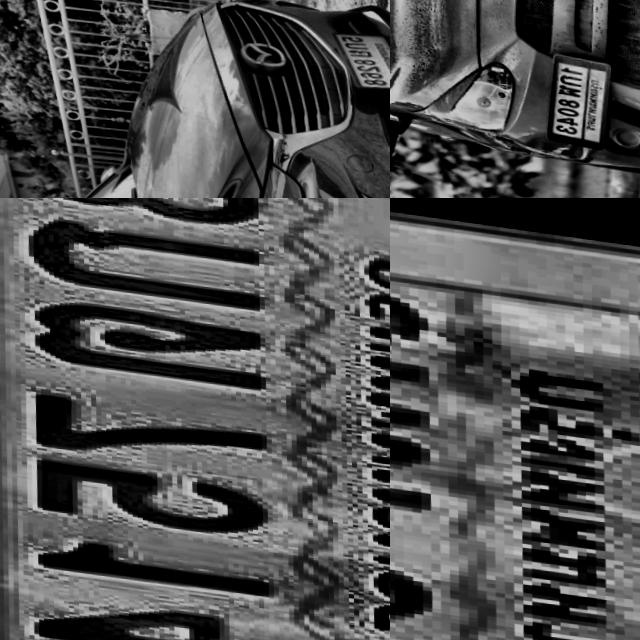license-plate: (0, 198, 390, 640), (390, 198, 640, 640), (535, 47, 609, 141), (324, 6, 390, 95)
